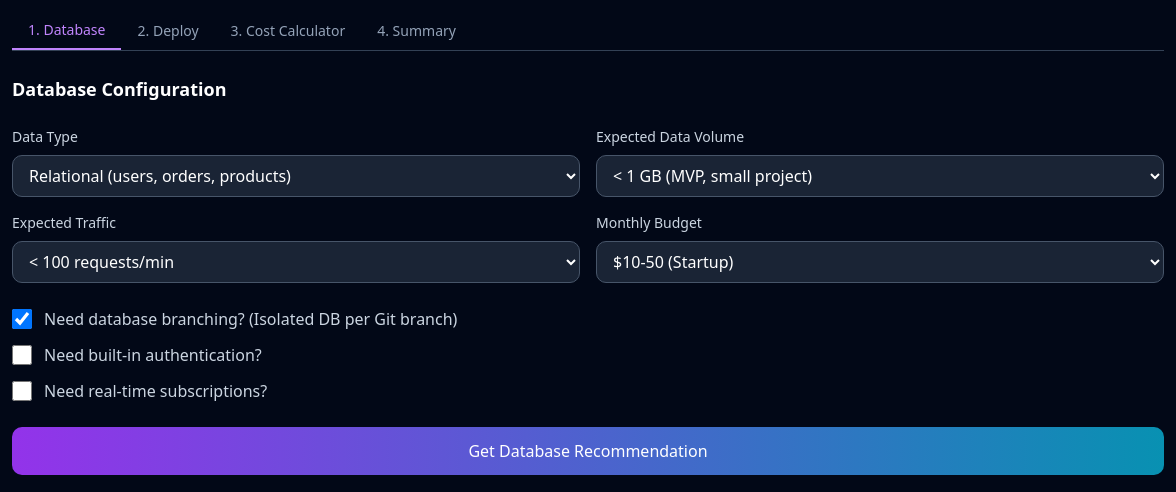
Test: InfraRecommendations › should show loading state while getting database recommendation
What coordinates should you click on to do the following:
click the button "Get Database Recommendation"
I would click on:
 (588, 451)
Its box is [12,427,1164,475].
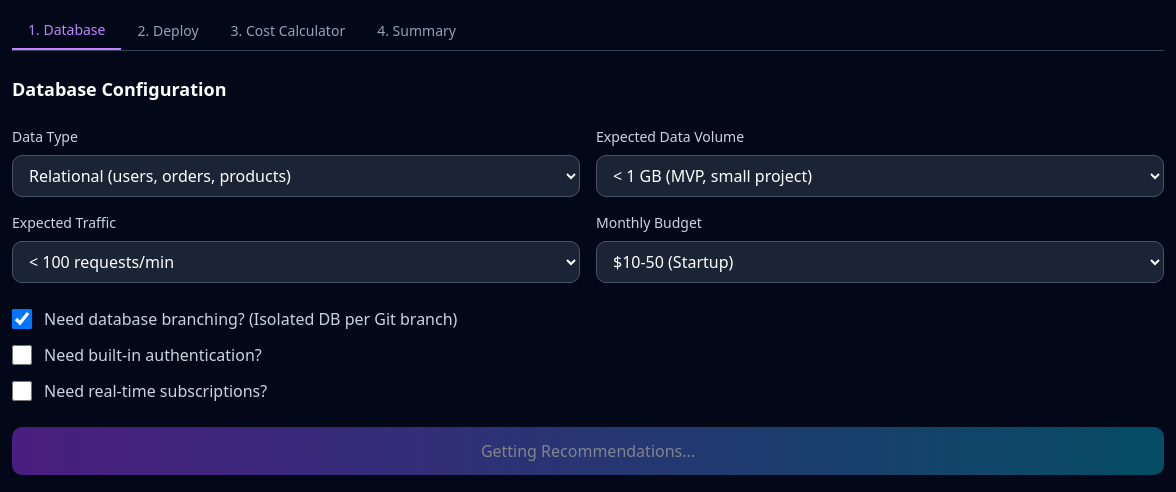
Result: the button "Getting Recommendations..." is shown at [12,427,1164,475]
